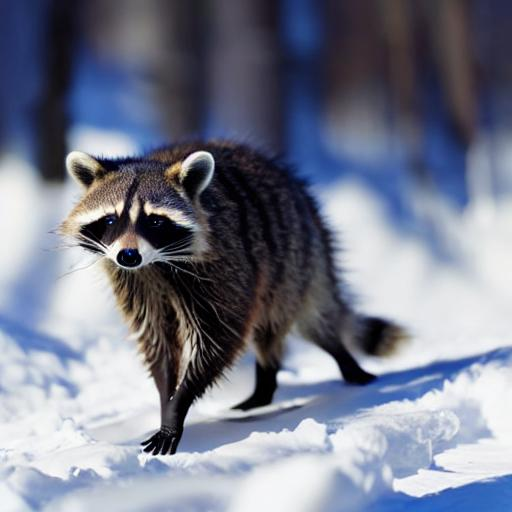raccoon: (40, 117, 418, 362)
